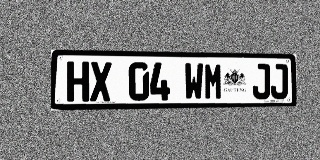0: (129, 62, 149, 101)
4: (150, 62, 170, 101)
H: (67, 61, 89, 102)
J: (253, 63, 270, 99), (271, 64, 288, 99)
M: (204, 63, 223, 100)
W: (184, 63, 203, 100)
X: (90, 62, 112, 101)
